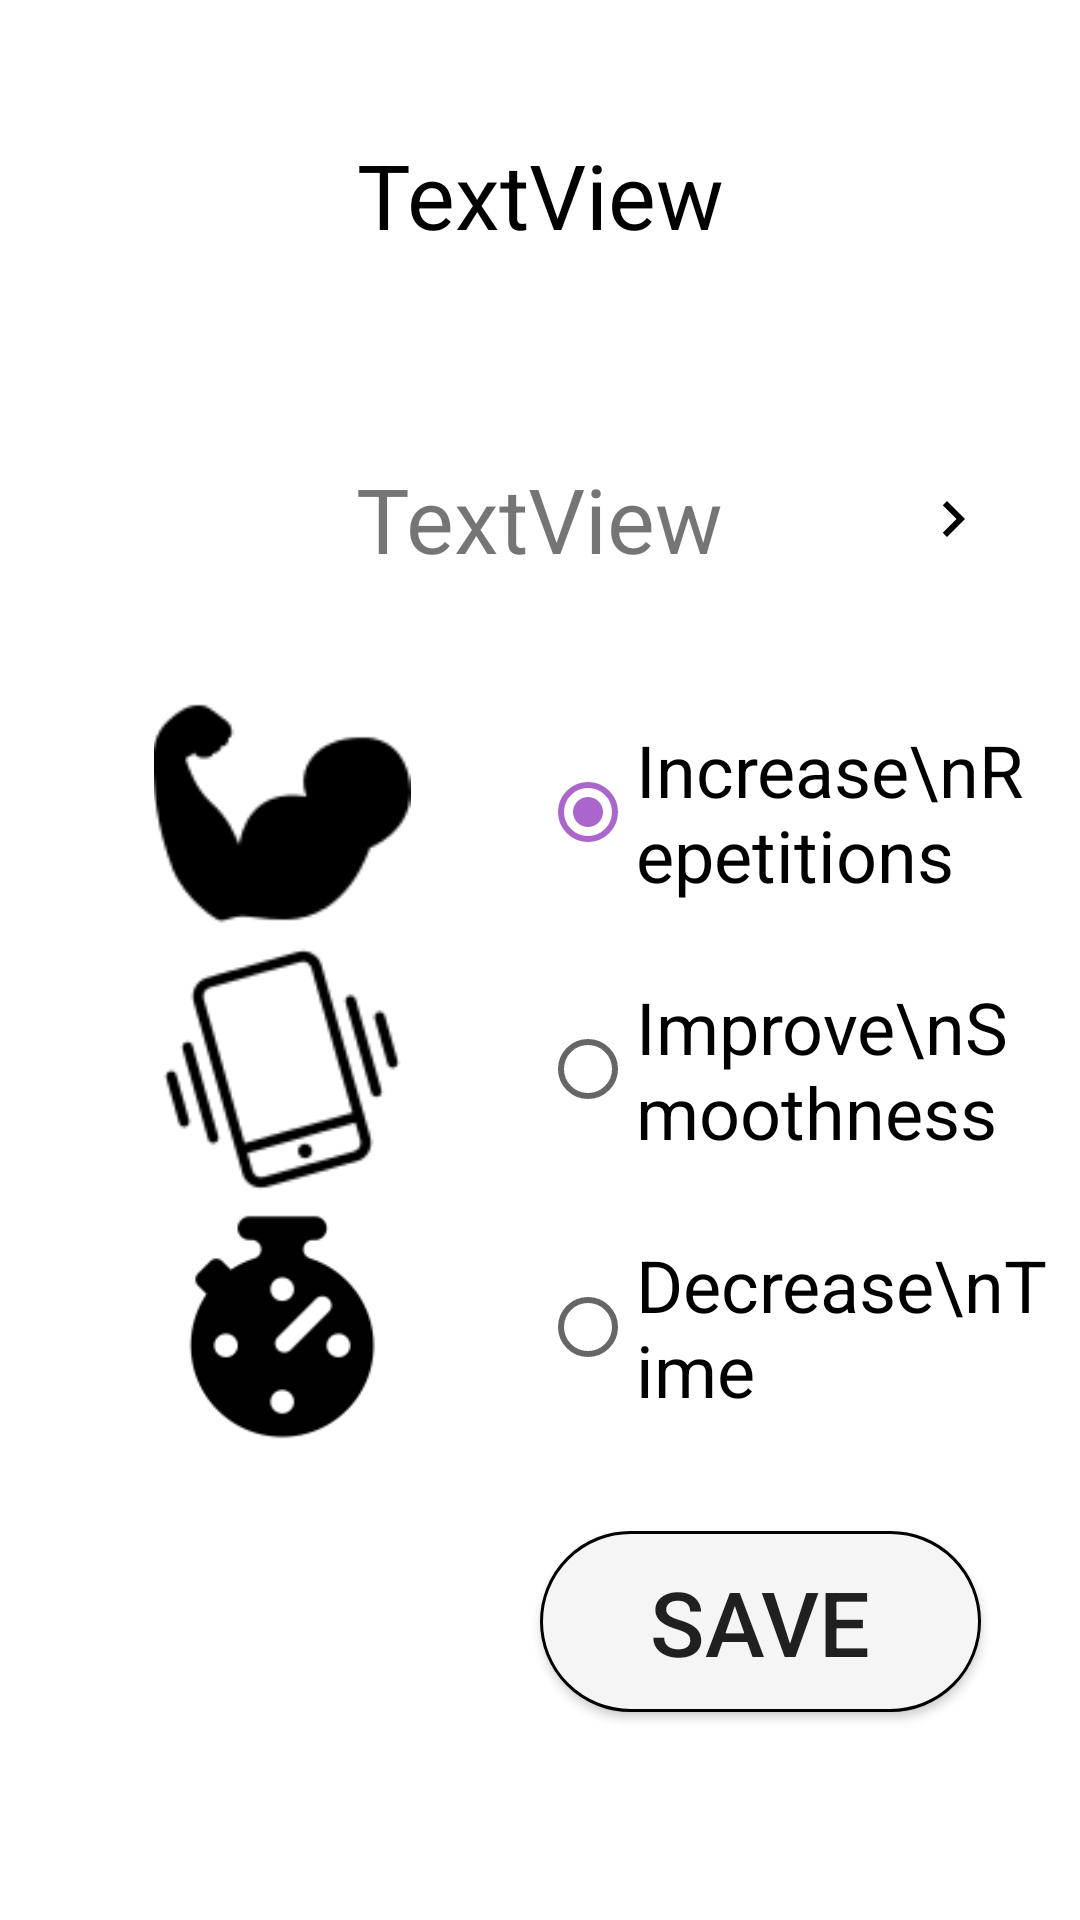

Where to tap for icons on this 1080 x 1920 app screen, as (x=x, y=y):
muscle: (x=282, y=813)
next: (x=954, y=519)
shake: (x=282, y=1069)
stopwatch: (x=282, y=1326)
